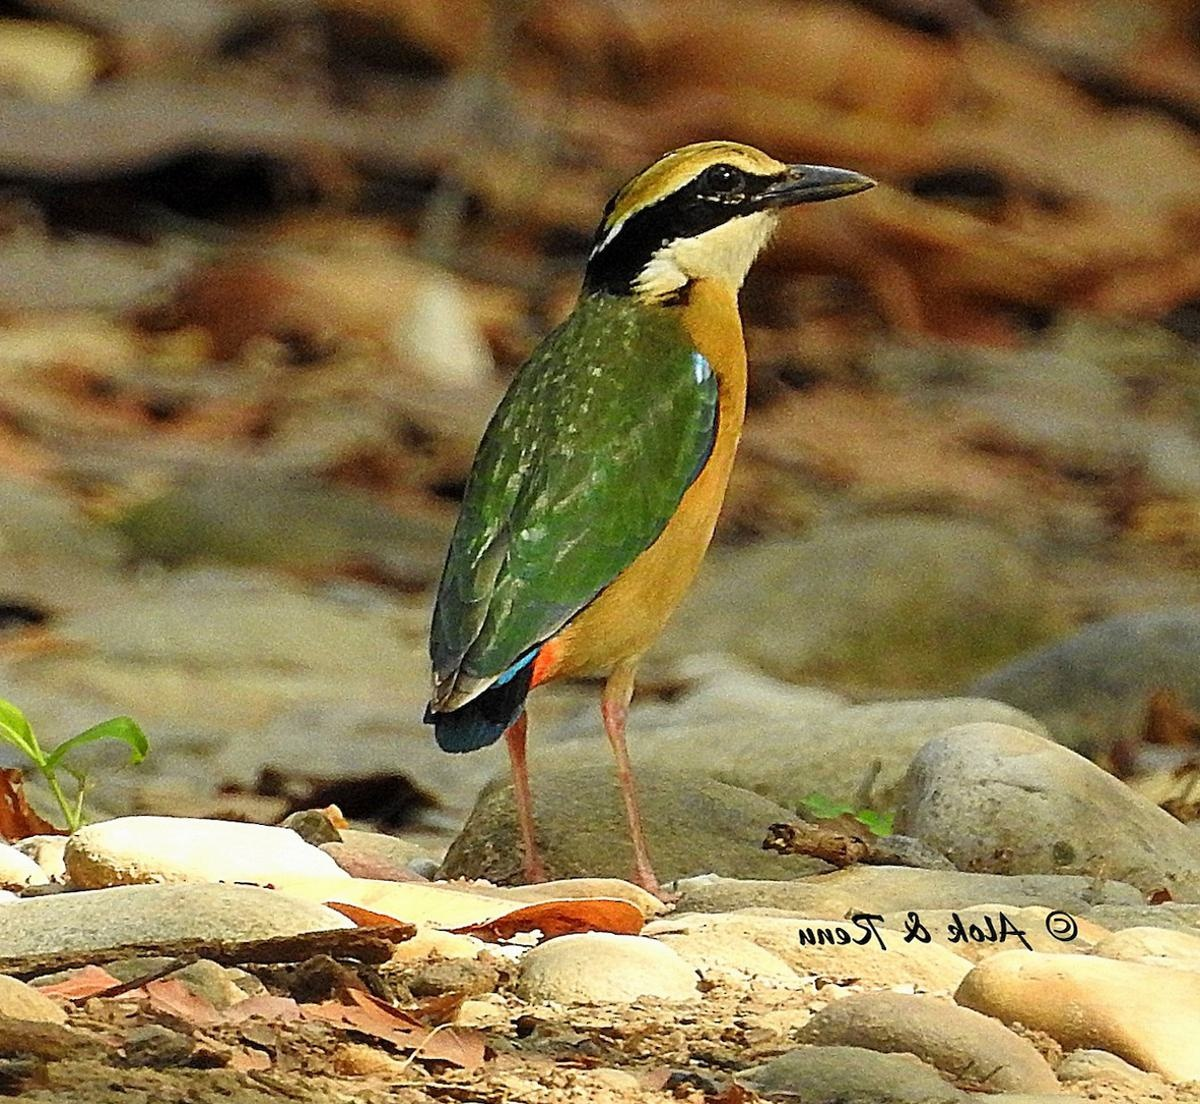pitta: (295, 89, 904, 968)
